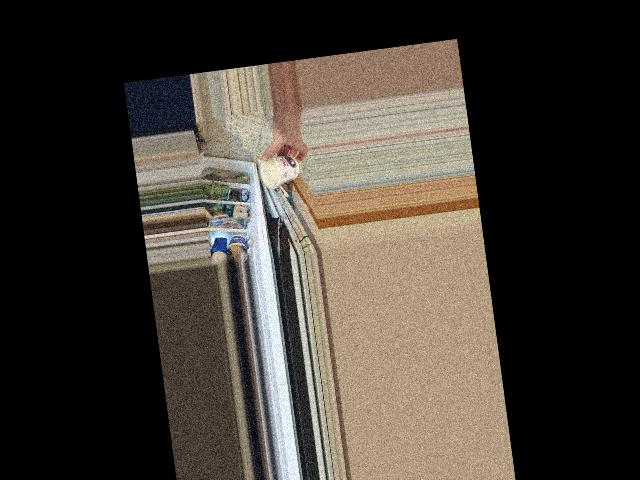cotage: (258, 150, 304, 188)
